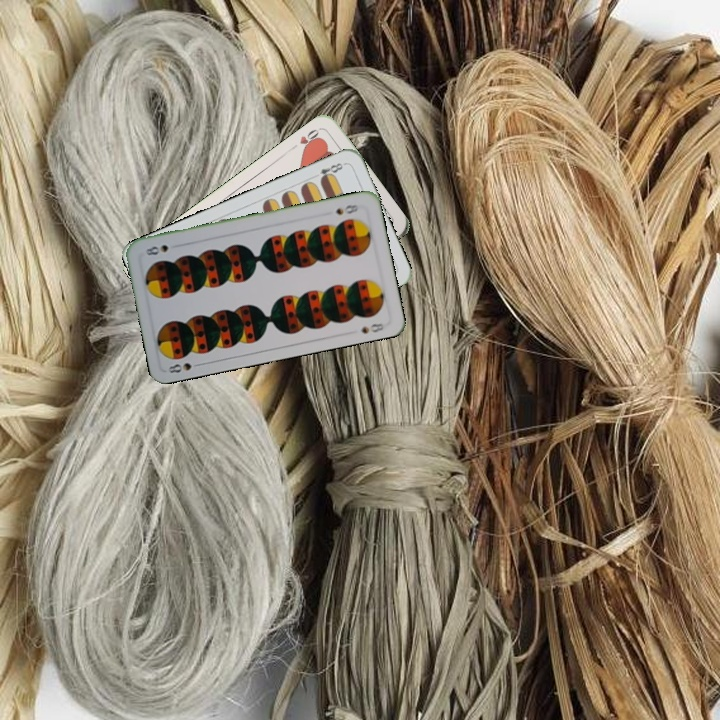E8: (315, 159, 348, 184)
HO: (287, 124, 324, 154)
S8: (164, 359, 205, 376), (332, 200, 363, 217)
